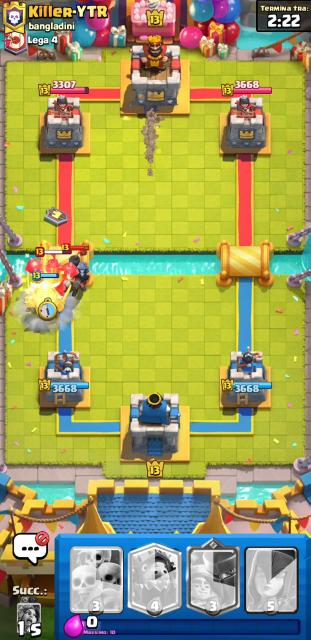ally_melee: (26, 270, 71, 314)
enemy_melee: (25, 247, 79, 297), (60, 244, 91, 296)
